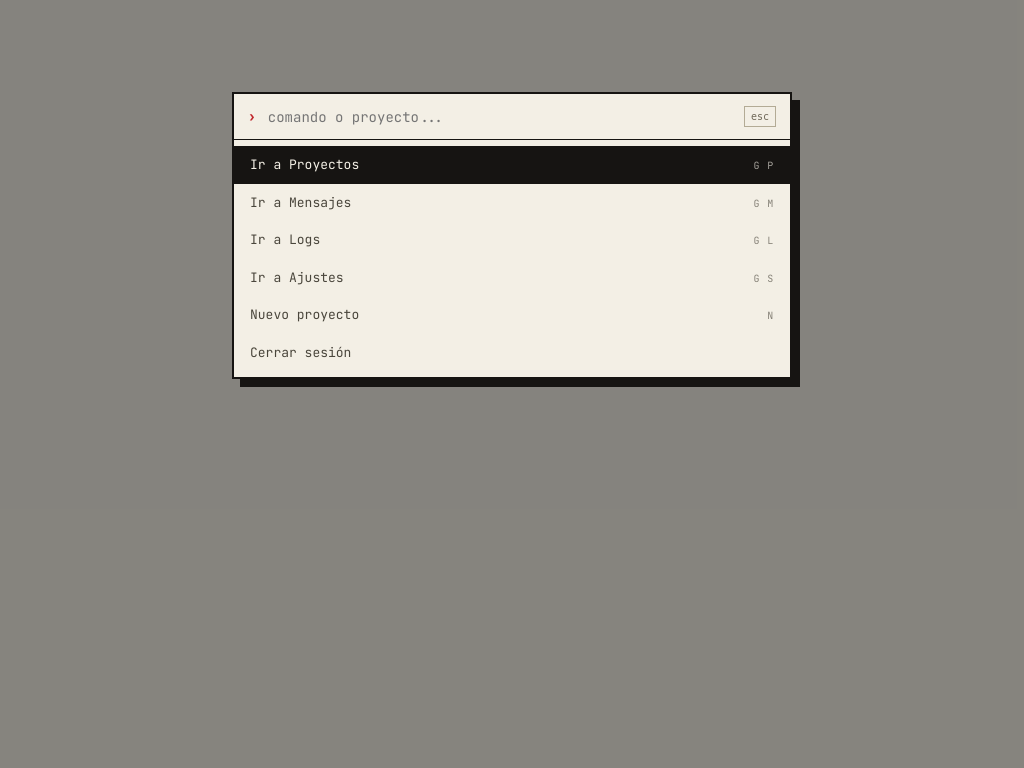
CommandPalette › filtra por texto: "mensa" deja solo Ir a Mensajes
Type "mensa" into the field with placeholder "comando o proyecto..." at (500, 117), box [266,107,734,127]
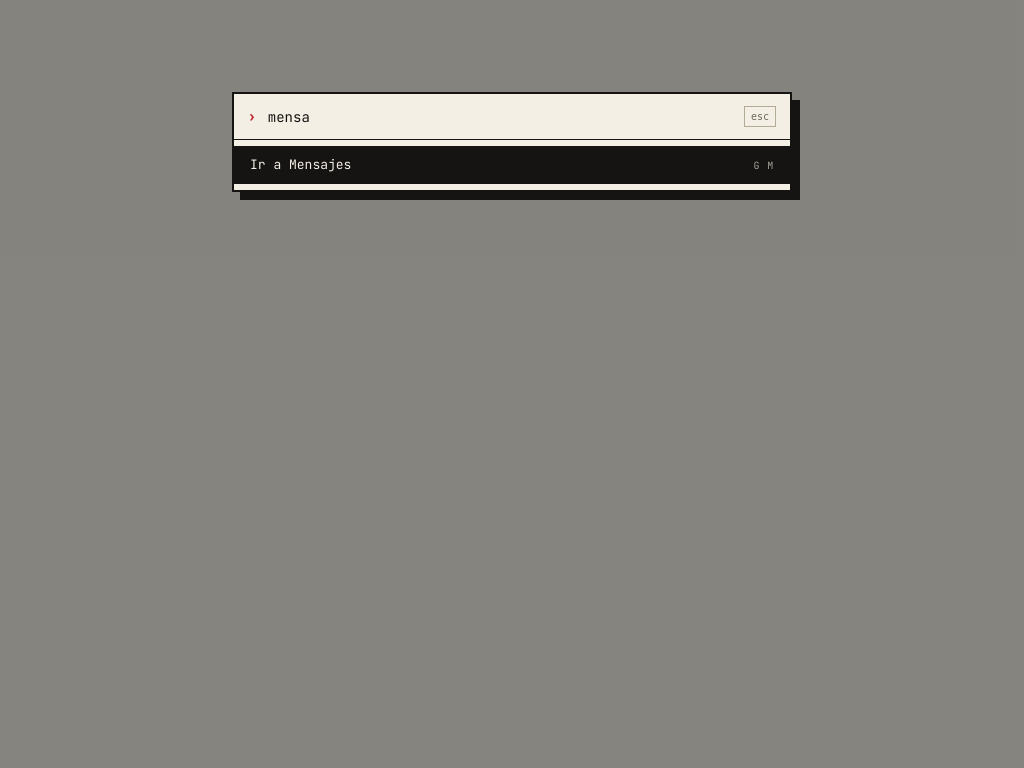
Expected: the text "Ir a Mensajes" is shown, [250,155,351,175]
Expected: the option "Ir a Proyectos" is gone
